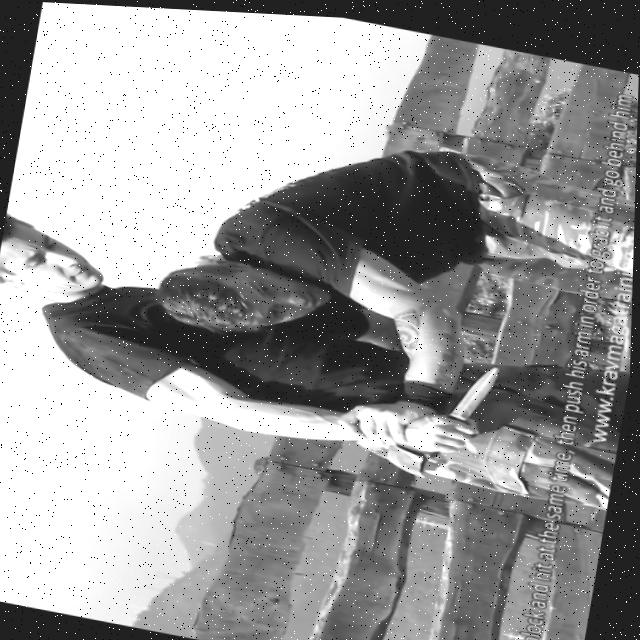knife: (451, 355, 497, 418)
